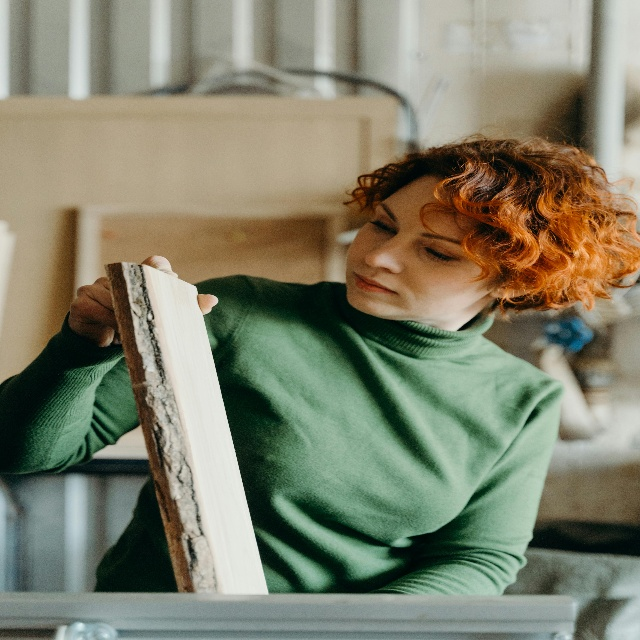Sin_guantes: (67, 256, 218, 347)
